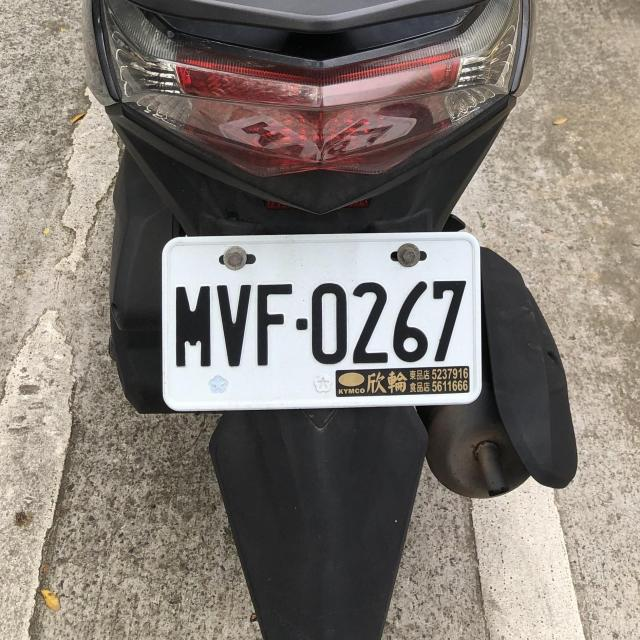W: (157, 230, 481, 407)
